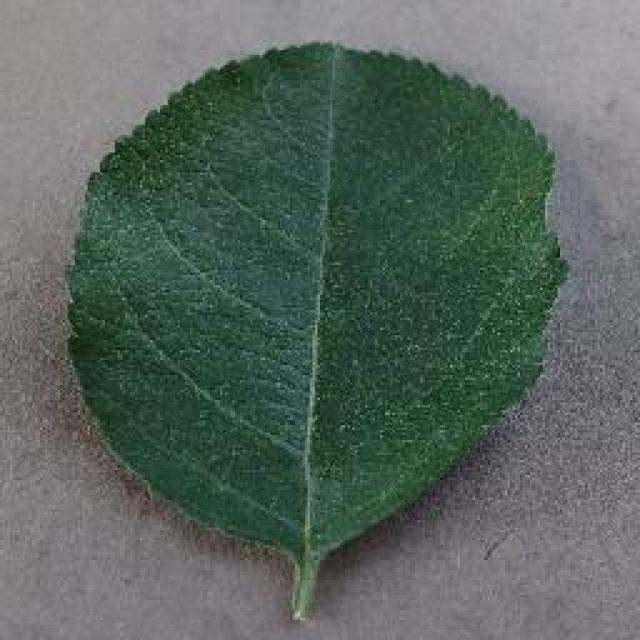apple healthy: (62, 38, 570, 620)
